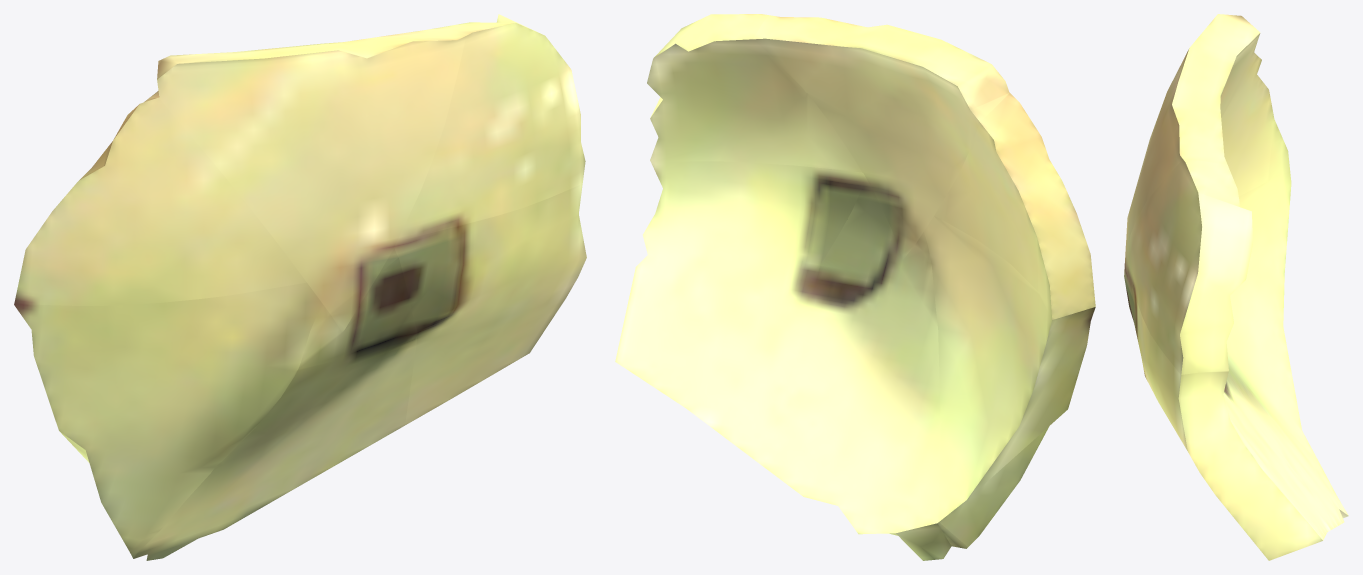
File: Ceramic018.gltf
3 renders of one model, left to right at view 1: azimuth 30°, elevation 25°; view 2: azimuth 150°, elevation 25°; view 3: azimuth 270°, elevation 25°, orthographic. The views are drawn at different scales.
Visible parts, largest first — view 1: Ceramic018_001, Ceramic018_003, Ceramic018_005, Ceramic018, Ceramic018_002, Ceramic018_004; view 2: Ceramic018, Ceramic018_002, Ceramic018_003, Ceramic018_001, Ceramic018_004, Ceramic018_005; view 3: Ceramic018_004, Ceramic018_002, Ceramic018_003, Ceramic018_001, Ceramic018_005, Ceramic018.
Part boxes in pixels (x1,y1,x2,y2): Ceramic018_001: (149, 28, 465, 332); Ceramic018_003: (14, 282, 321, 557); Ceramic018_005: (14, 97, 306, 305); Ceramic018: (133, 248, 417, 560); Ceramic018_002: (394, 184, 586, 425); Ceramic018_004: (397, 14, 585, 240); Ceramic018: (714, 178, 967, 560); Ceramic018_002: (615, 161, 866, 428); Ceramic018_003: (924, 216, 1095, 546); Ceramic018_001: (753, 15, 1009, 259); Ceramic018_004: (647, 14, 862, 172); Ceramic018_005: (934, 93, 1095, 306); Ceramic018_004: (1125, 159, 1252, 374); Ceramic018_002: (1124, 261, 1330, 560); Ceramic018_003: (1226, 171, 1318, 461); Ceramic018_001: (1124, 14, 1260, 263); Ceramic018_005: (1221, 56, 1289, 196); Ceramic018: (1124, 280, 1348, 529).
Bounding box in the file's own units: 0.1233 × 0.1183 × 0.0483.
1 material, 1 textured.
